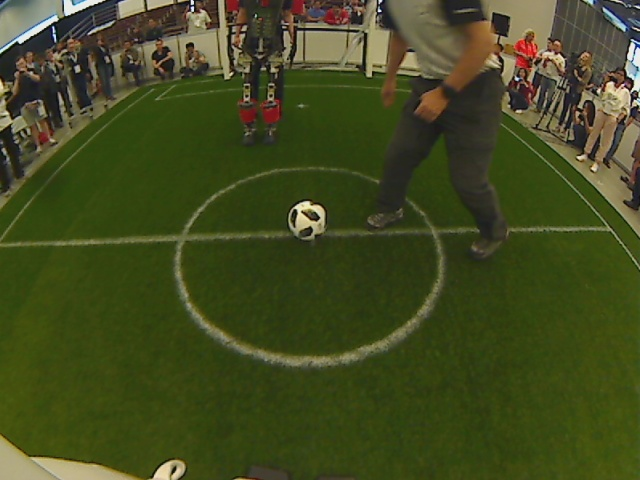ball: (285, 197, 331, 245)
